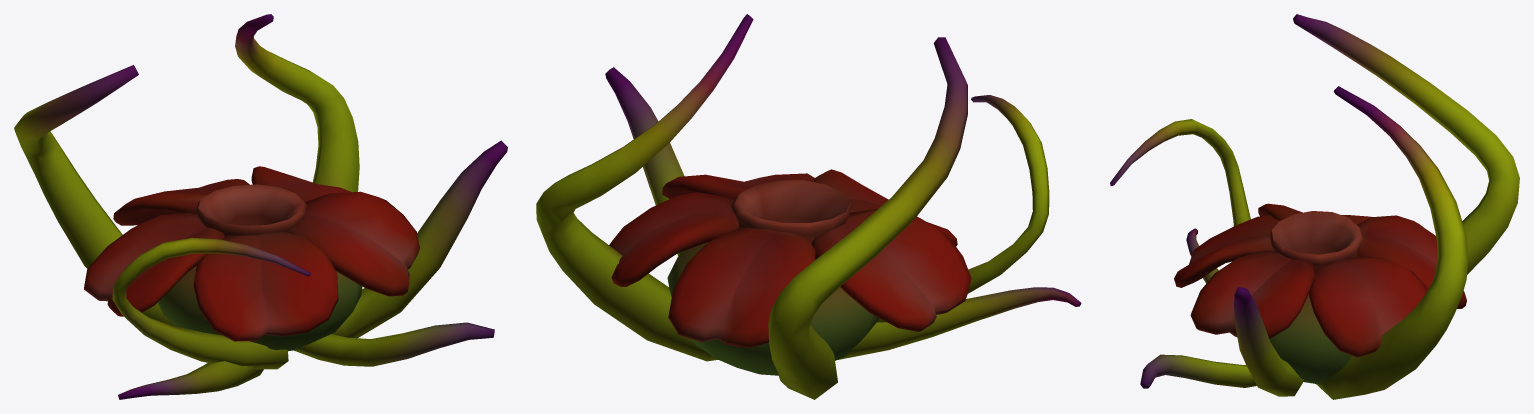
Rendered from Plant_8.fbx.
The picture shows the model from 3 angles, left to right: view 1: azimuth 30°, elevation 25°; view 2: azimuth 150°, elevation 25°; view 3: azimuth 270°, elevation 25°; orthographic projection. The views are drawn at different scales.
Visible parts, largest first — view 1: Plant_8; view 2: Plant_8; view 3: Plant_8.
Part boxes in pixels (bbox=[...]): Plant_8: bbox=[14, 14, 507, 399]; Plant_8: bbox=[536, 14, 1081, 399]; Plant_8: bbox=[1110, 14, 1519, 399].
Bounding box in the file's own units: 6.77 × 5.23 × 6.39.
